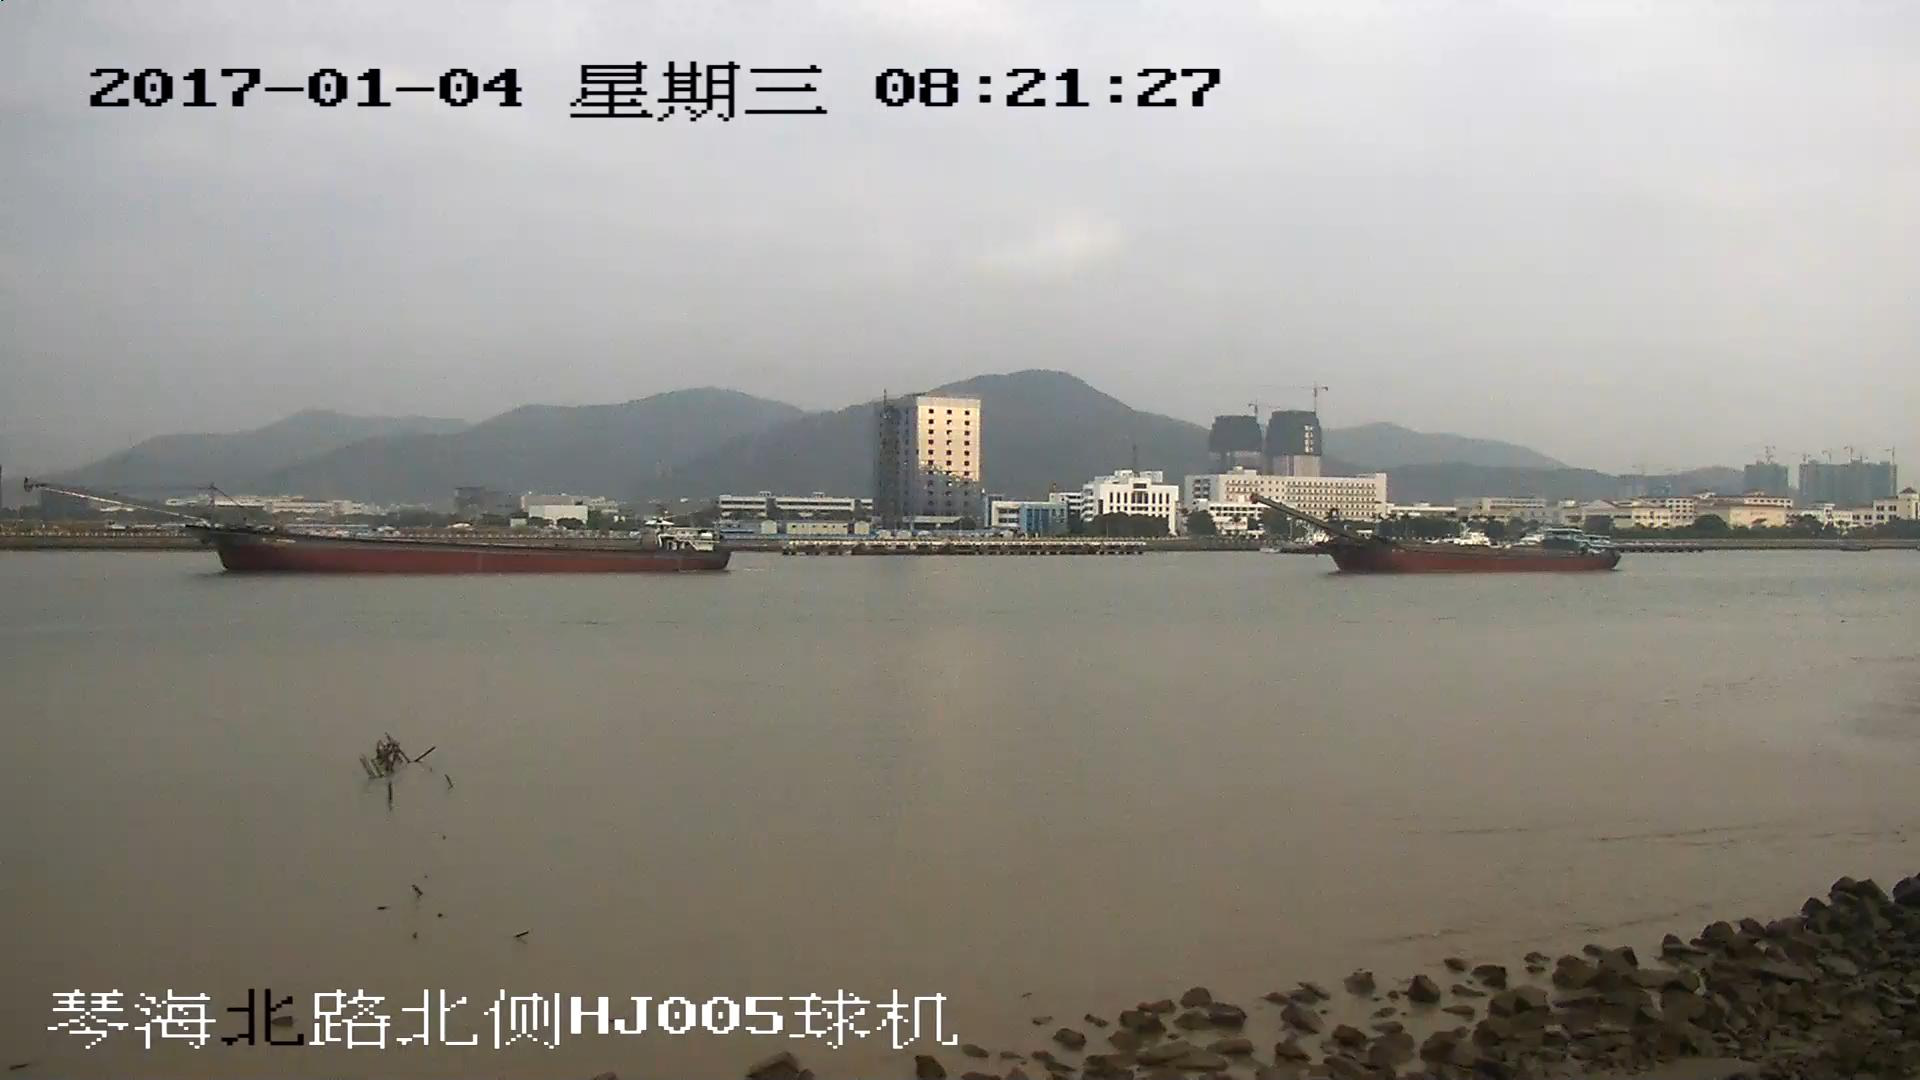bulk cargo carrier: (29, 480, 726, 570), (1251, 493, 1614, 568)
